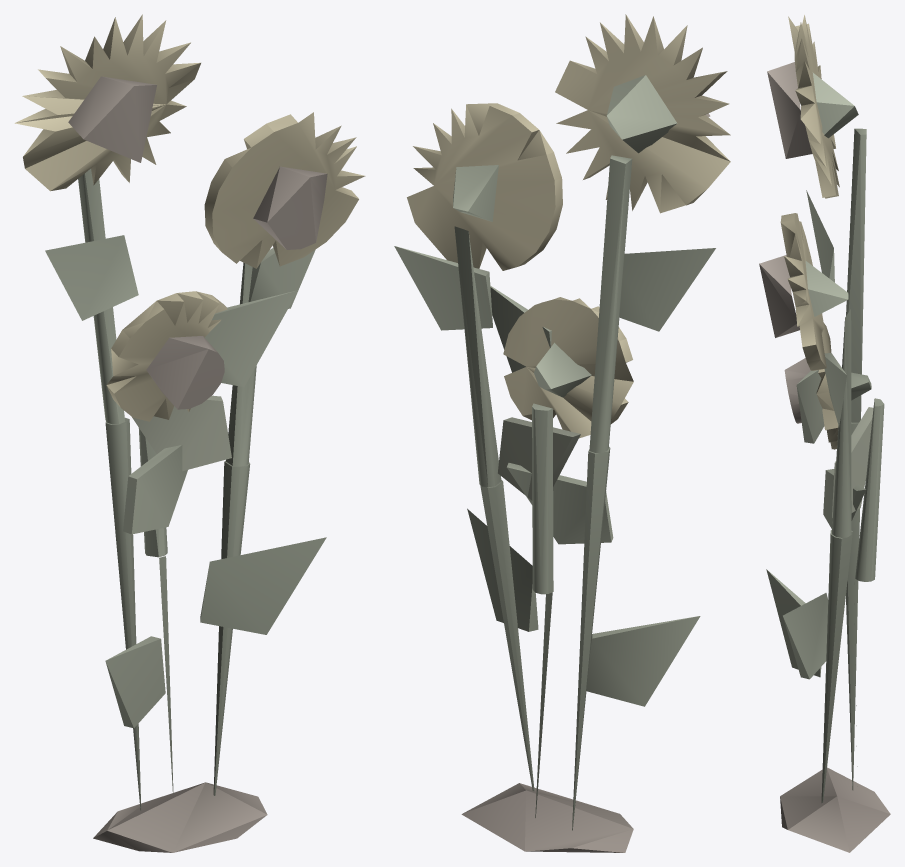
File: sunflower.lod1.glb
3 renders of one model, left to right at view 1: azimuth 30°, elevation 25°; view 2: azimuth 150°, elevation 25°; view 3: azimuth 270°, elevation 25°, orthographic. The views are drawn at different scales.
Bounding box in the file's own units: 0.75 × 1.78 × 0.2806.
